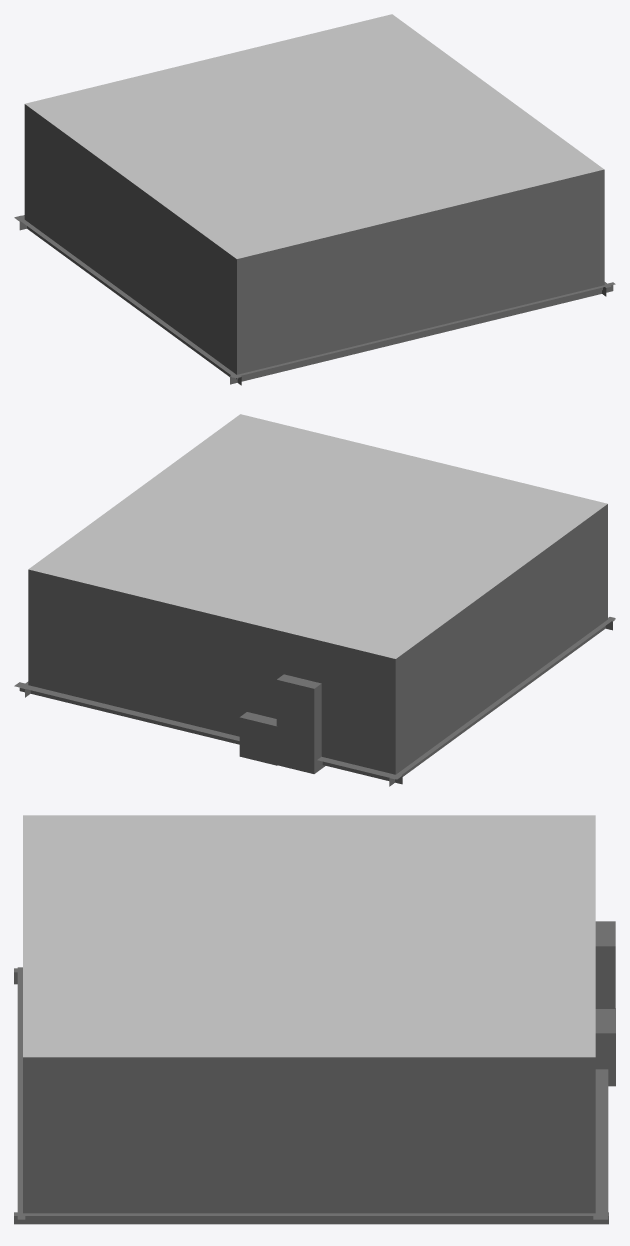
The model's file is mini_office.dae.
3 renders of one model, top to bottom at view 1: azimuth 30°, elevation 25°; view 2: azimuth 150°, elevation 25°; view 3: azimuth 270°, elevation 25°, orthographic. The views are drawn at different scales.
Visible parts, largest first — view 1: CeilingTiles, Wall; view 2: CeilingTiles, Wall; view 3: CeilingTiles, Wall.
Part boxes in pixels (x1,y1,x2,y2): CeilingTiles: (25,14,604,258); Wall: (14,104,615,385); CeilingTiles: (28,414,607,658); Wall: (14,504,615,786); CeilingTiles: (23,815,595,1057); Wall: (14,921,615,1224).
Bounding box in the file's own units: 10.17 × 10.25 × 3.25.
